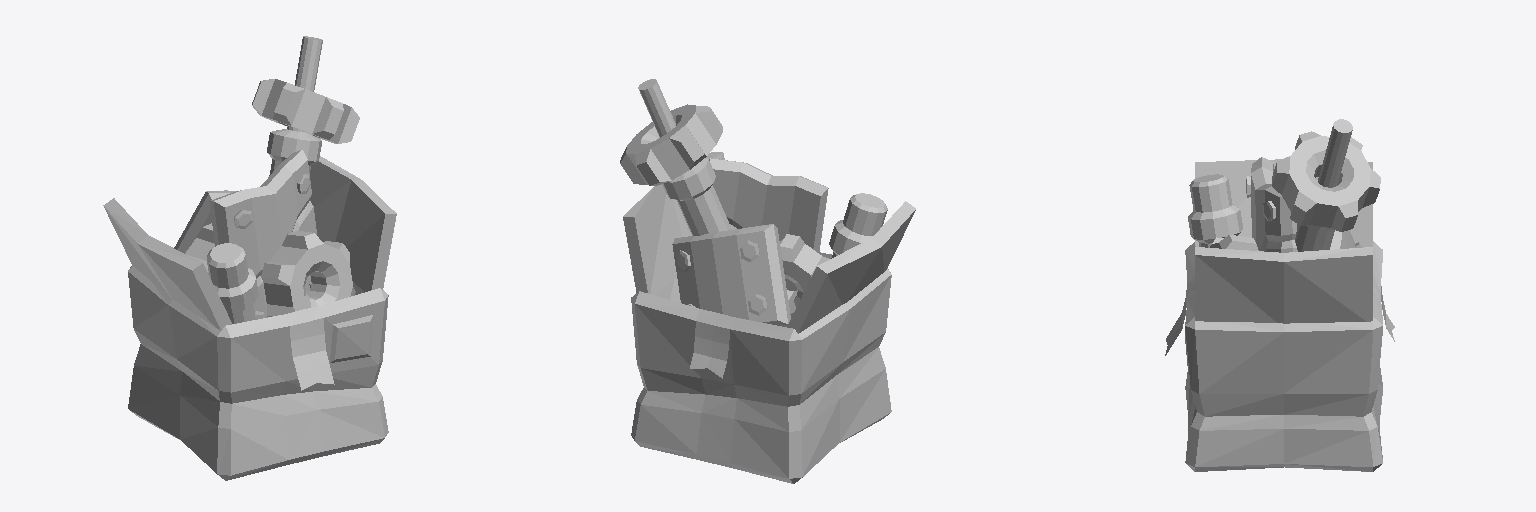
The model's file is Parts_Pile_Medium.obj.
The picture shows the model from 3 angles: view 1: azimuth 30°, elevation 25°; view 2: azimuth 150°, elevation 25°; view 3: azimuth 270°, elevation 25°; orthographic projection.
Parts seen in each view (by area): view 1: Parts_Pile_Medium; view 2: Parts_Pile_Medium; view 3: Parts_Pile_Medium.
Boxes of the visible parts, <box> form: Parts_Pile_Medium: <box>103,36,396,480</box>; Parts_Pile_Medium: <box>620,79,915,483</box>; Parts_Pile_Medium: <box>1165,119,1394,471</box>.
Size of the model in its own units: 1.02 by 1.47 by 0.8726.